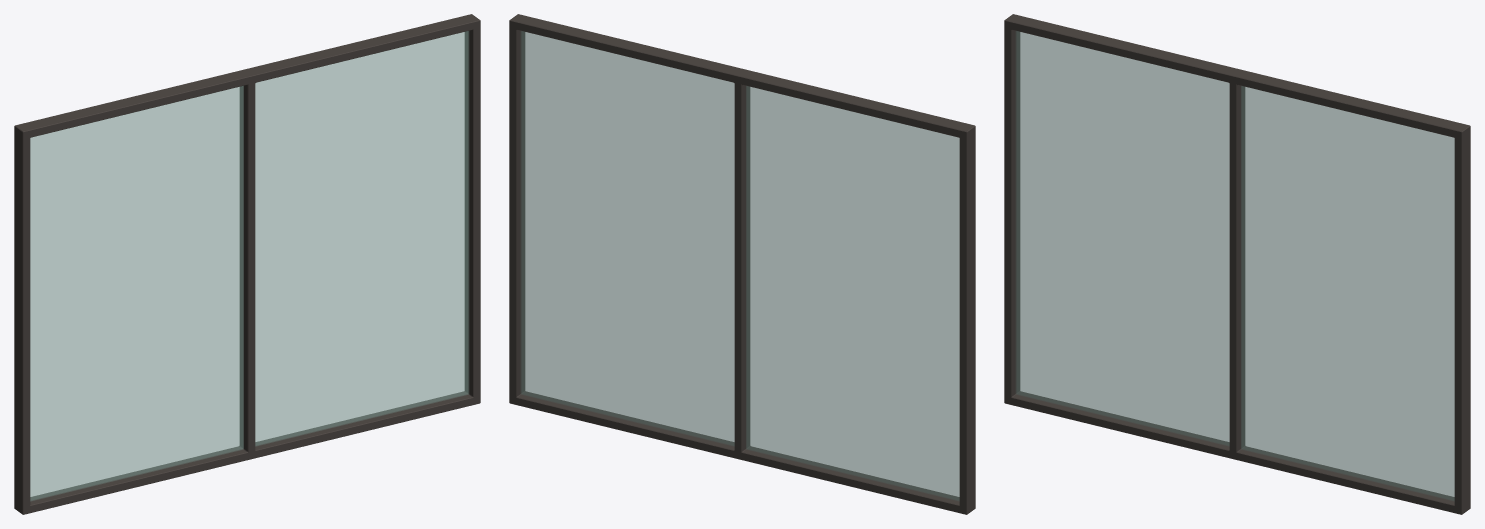
File: arch_window_shop_w300_h240.glb
3 views of the same model, side by side, from view 1: azimuth 30°, elevation 25°; view 2: azimuth 150°, elevation 25°; view 3: azimuth 330°, elevation 25° (orthographic).
Parts seen in each view (by area): view 1: Glass, Frame; view 2: Glass, Frame; view 3: Glass, Frame.
Part boxes in pixels (left/top/right/bottom): Glass: left=30, top=31, right=468, bottom=501; Frame: left=14, top=14, right=480, bottom=514; Glass: left=521, top=31, right=959, bottom=501; Frame: left=509, top=14, right=975, bottom=514; Glass: left=1016, top=31, right=1454, bottom=501; Frame: left=1004, top=14, right=1470, bottom=514.
Size of the model in its own units: 3 by 2.4 by 0.1.
